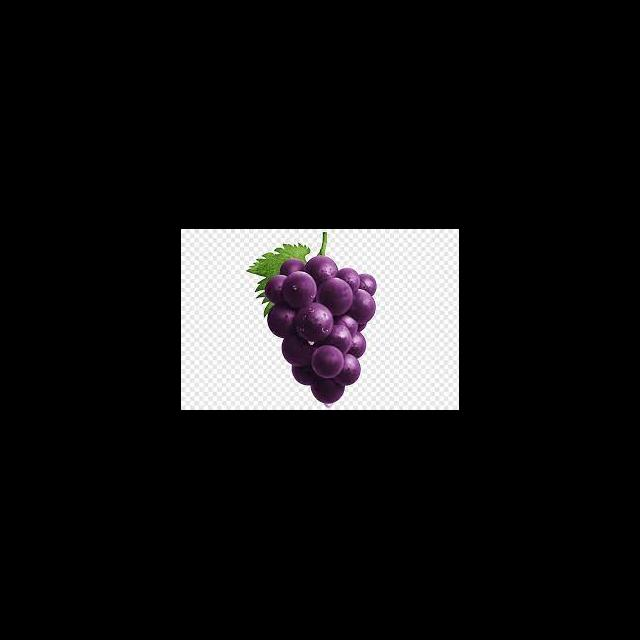grape: (262, 247, 379, 409)
